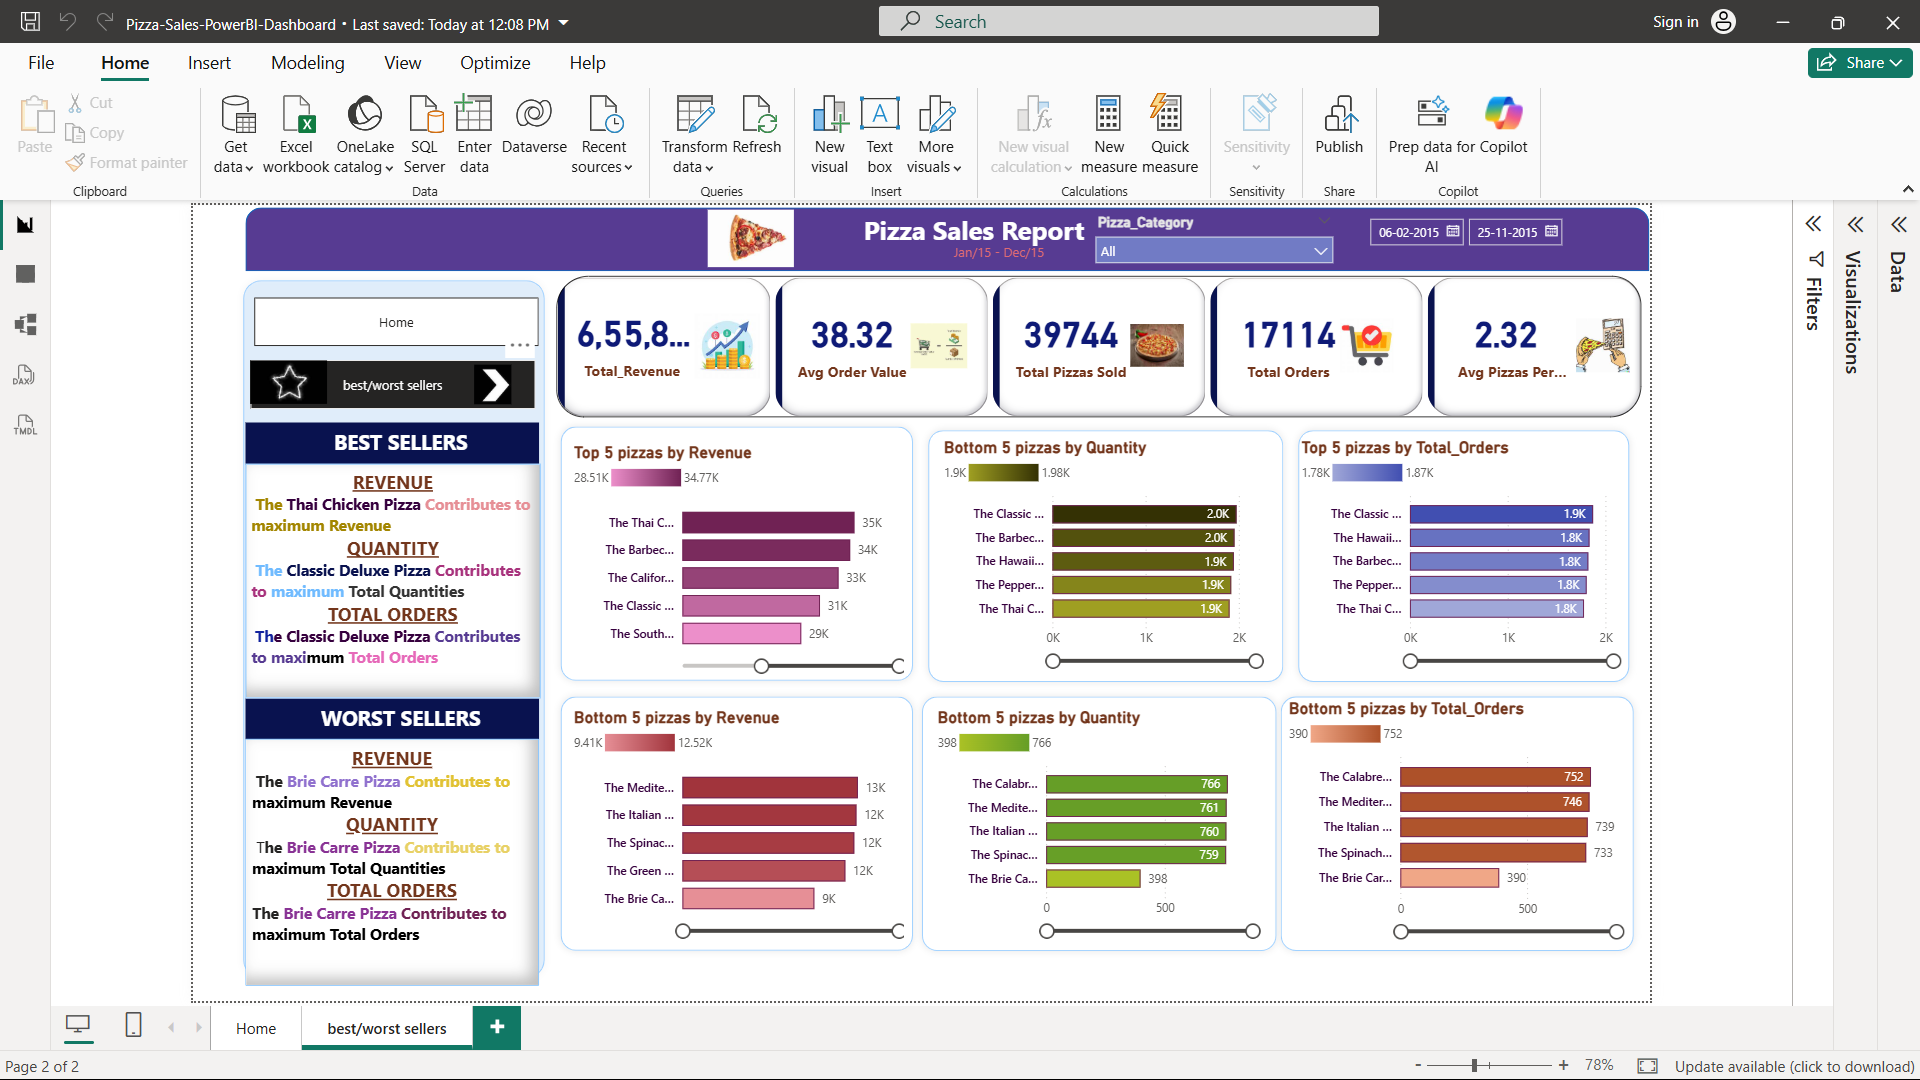

The dashboard page shown, as its layout file describes it:
{"tool":"powerbi","page":{"name":"best/worst sellers","canvas":[1500,820],"ordinal":1},"visuals":[{"type":"shape","box":[43.4,69.1,326.4,734.9],"z":0},{"type":"cardVisual","fields":{"Data":["pizza_sales.Total_Revenue","pizza_sales.Avg Order Value","pizza_sales.Total Pizzas Sold","pizza_sales.Total Orders","pizza_sales.Avg Pizzas Per Order"]},"box":[370,68.3,1130,155],"z":1000},{"type":"shape","box":[54.1,2.6,1446.1,65.7],"z":2000},{"type":"textbox","box":[670,2.9,270,45.7],"z":3000},{"type":"textbox","box":[770.3,35.4,120.6,45],"z":4000},{"type":"image","box":[479.2,0,191.4,69.1],"z":5000},{"type":"shape","box":[370.6,220.7,378.8,278],"z":6000},{"type":"shape","box":[749.5,223.5,381.5,275.3],"z":7000},{"type":"shape","box":[1131,223.5,357,275.3],"z":8000},{"type":"textbox","box":[54.7,223.5,302.3,43.4],"z":9000},{"type":"textbox","box":[54.7,266.9,303.9,241.2],"z":10000},{"type":"textbox","box":[54.7,508.1,302.3,41.8],"z":11000},{"type":"textbox","box":[54.7,550,302.3,254.1],"z":12000},{"type":"slicer","fields":{"Values":["pizza_sales.pizza_category"]},"box":[920,3.3,265,65],"z":13000},{"type":"slicer","fields":{"Values":["pizza_sales.order_date"]},"box":[1200,3.3,233.3,65],"z":14000},{"type":"shape","box":[370.6,498.7,378.8,278],"z":15000},{"type":"shape","box":[742.9,498.5,381.1,278.2],"z":16000},{"type":"shape","box":[1112.8,498.5,379.5,278.2],"z":17000},{"type":"barChart","title":"Top 5 pizzas by Revenue","fields":{"Category":["pizza_sales.pizza_name"],"Y":["pizza_sales.Total_Revenue"]},"box":[387,245.3,344.8,241.2],"z":18000},{"type":"barChart","title":"Bottom 5 pizzas by Revenue","fields":{"Category":["pizza_sales.pizza_name"],"Y":["pizza_sales.Total_Revenue"]},"box":[387,517.8,344.8,241.2],"z":19000},{"type":"barChart","title":"Bottom 5 pizzas by Quantity","fields":{"Category":["pizza_sales.pizza_name"],"Y":["pizza_sales.Total Pizzas Sold"]},"box":[768.7,239.6,344.1,241.2],"z":20000},{"type":"barChart","title":"Bottom 5 pizzas by Quantity","fields":{"Category":["pizza_sales.pizza_name"],"Y":["pizza_sales.Total Pizzas Sold"]},"box":[762.2,517.8,344.1,241.2],"z":21000},{"type":"barChart","title":"Top 5 pizzas by Total_Orders","fields":{"Category":["pizza_sales.pizza_name"],"Y":["pizza_sales.Total Orders"]},"box":[1136.9,239.6,344.1,241.2],"z":22000},{"type":"barChart","title":"Bottom 5 pizzas by Total_Orders","fields":{"Category":["pizza_sales.pizza_name"],"Y":["pizza_sales.Total Orders"]},"box":[1124,508.1,357,250.9],"z":23000},{"type":"pageNavigator","box":[63.1,95.3,293.6,50.2],"z":24000},{"type":"pageNavigator","box":[59.2,159.7,293.6,50.2],"z":25000},{"type":"image","box":[264,159.7,88.9,50.2],"z":26000},{"type":"image","box":[54.1,154.5,88.9,55.4],"z":27000}]}

Visuals, with their boxes on the page's 1500x820 design canvas (x1, y1, x2, y2). These are canvas units, not pixel positions in the 1920x1080 screenshot, which may show the page scaled, cropped or inside an application window:
shape: [43,69,370,804]
cardVisual - pizza_sales.Total_Revenue x pizza_sales.Avg Order Value: [370,68,1500,223]
shape: [54,3,1500,68]
textbox: [670,3,940,49]
textbox: [770,35,891,80]
image: [479,0,671,69]
shape: [371,221,749,499]
shape: [750,224,1131,499]
shape: [1131,224,1488,499]
textbox: [55,224,357,267]
textbox: [55,267,359,508]
textbox: [55,508,357,550]
textbox: [55,550,357,804]
slicer - pizza_sales.pizza_category: [920,3,1185,68]
slicer - pizza_sales.order_date: [1200,3,1433,68]
shape: [371,499,749,777]
shape: [743,498,1124,777]
shape: [1113,498,1492,777]
"Top 5 pizzas by Revenue" barChart: [387,245,732,486]
"Bottom 5 pizzas by Revenue" barChart: [387,518,732,759]
"Bottom 5 pizzas by Quantity" barChart: [769,240,1113,481]
"Bottom 5 pizzas by Quantity" barChart: [762,518,1106,759]
"Top 5 pizzas by Total_Orders" barChart: [1137,240,1481,481]
"Bottom 5 pizzas by Total_Orders" barChart: [1124,508,1481,759]
pageNavigator: [63,95,357,146]
pageNavigator: [59,160,353,210]
image: [264,160,353,210]
image: [54,154,143,210]
